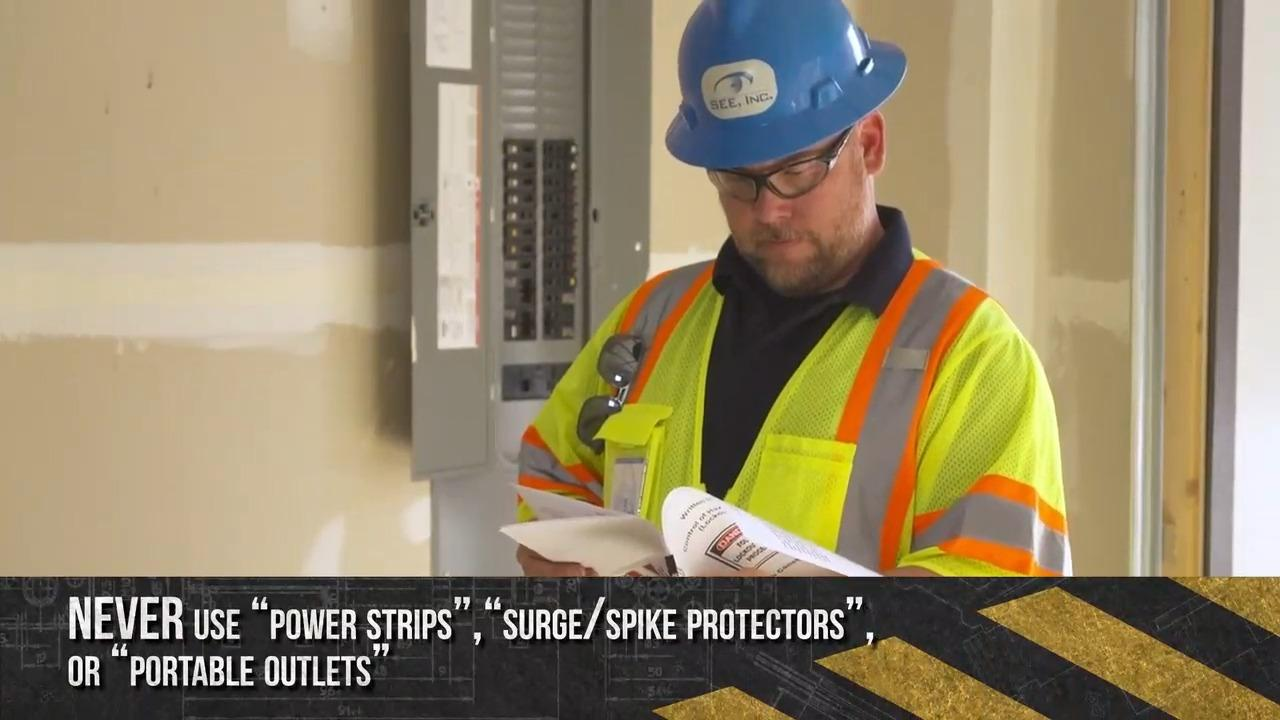Helmet: (652, 0, 891, 144)
Person: (538, 0, 1027, 667)
Safety Vest: (617, 285, 1025, 585)
